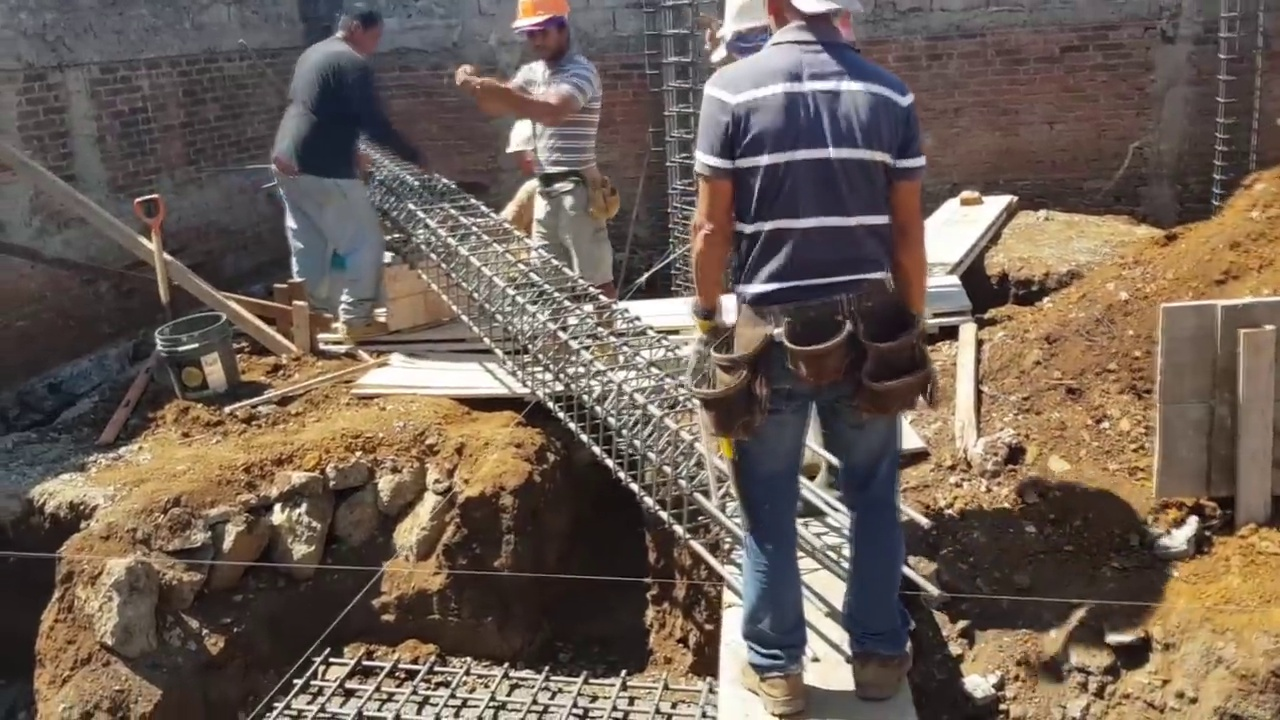helmet: (715, 0, 770, 43)
helmet-off: (764, 0, 845, 64), (332, 6, 383, 56)
helmet-on: (506, 1, 575, 68), (710, 0, 779, 60), (509, 2, 572, 35)
person: (674, 0, 946, 720), (269, 2, 409, 355), (461, 3, 612, 296)
